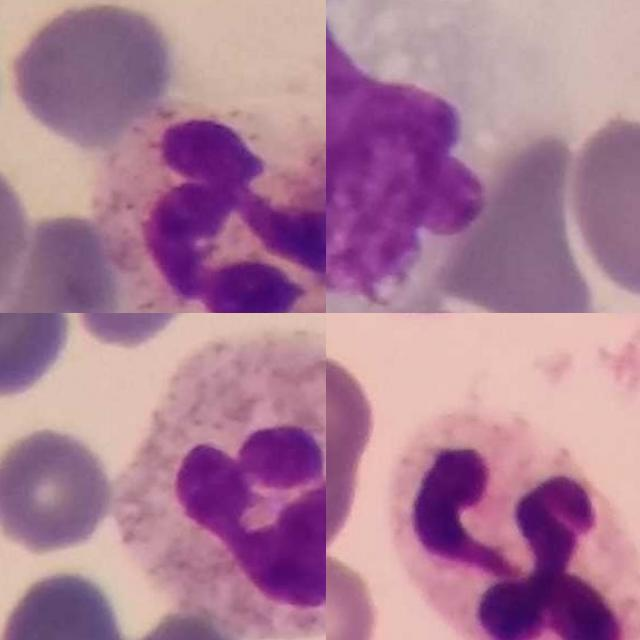Monocyte: (326, 0, 491, 313)
Neutrophil: (115, 333, 326, 640), (390, 410, 640, 640), (93, 105, 326, 313)
